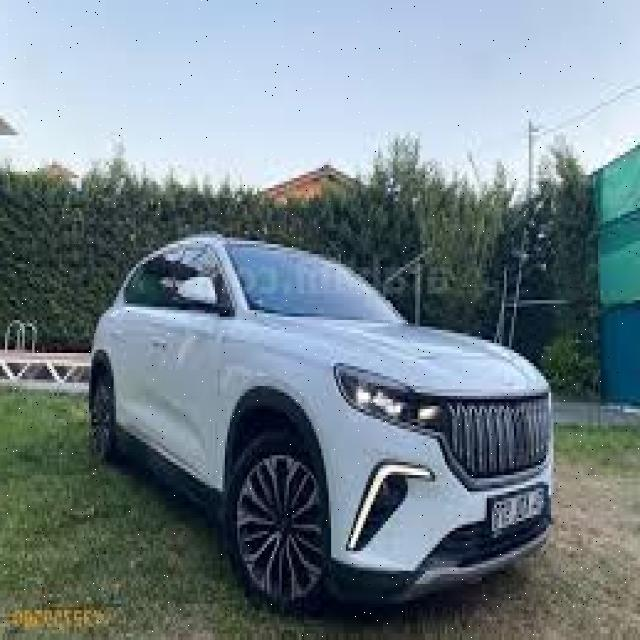togg: (91, 231, 556, 614)
